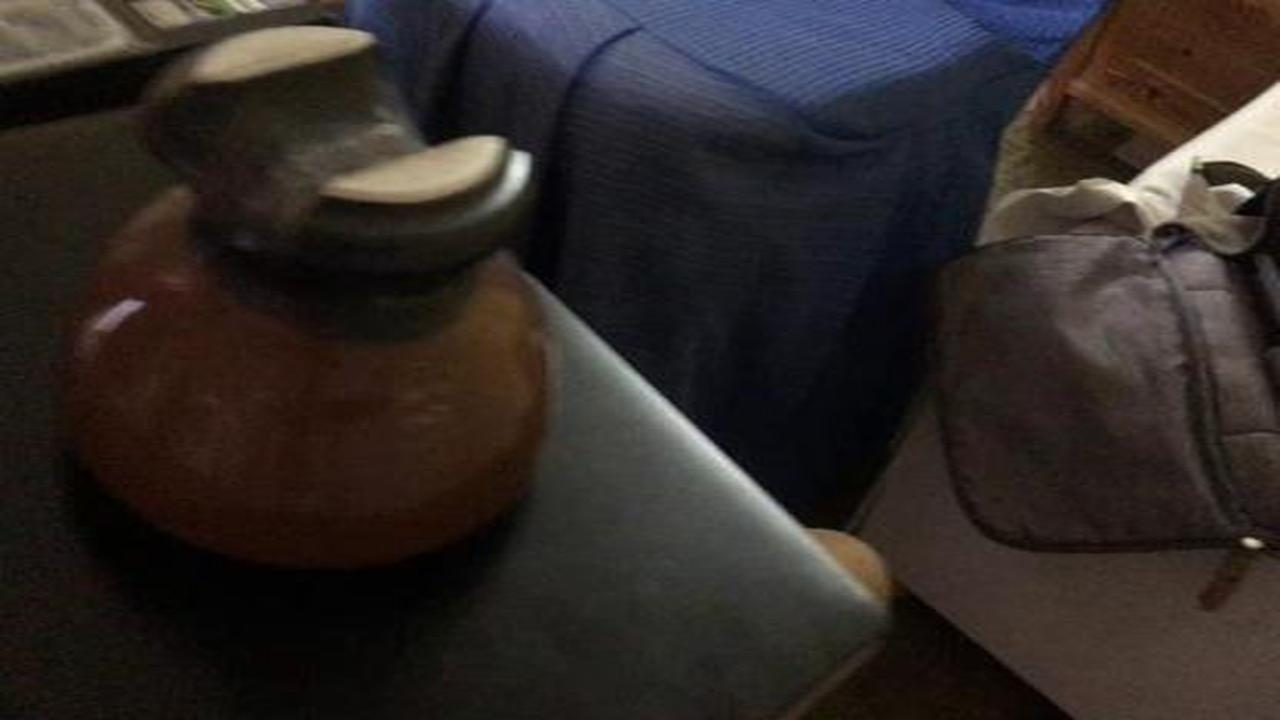insulator_pin: (31, 16, 585, 592)
